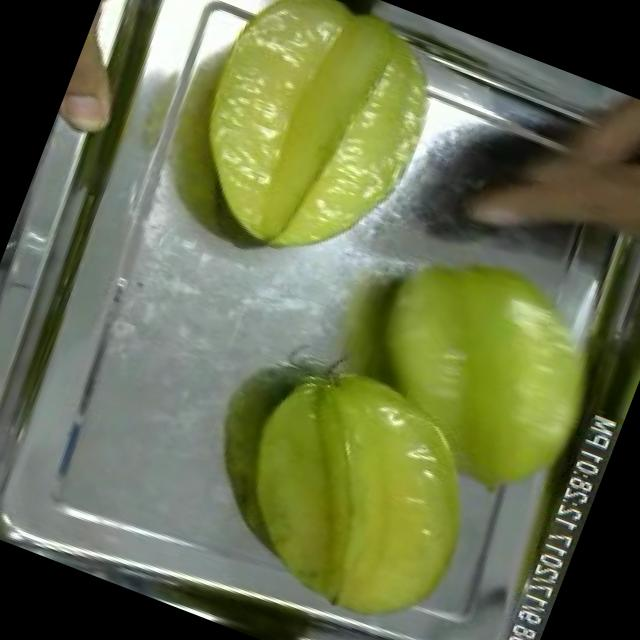fruit: (311, 210, 640, 540), (192, 320, 519, 640), (152, 0, 475, 302), (50, 0, 157, 150)
